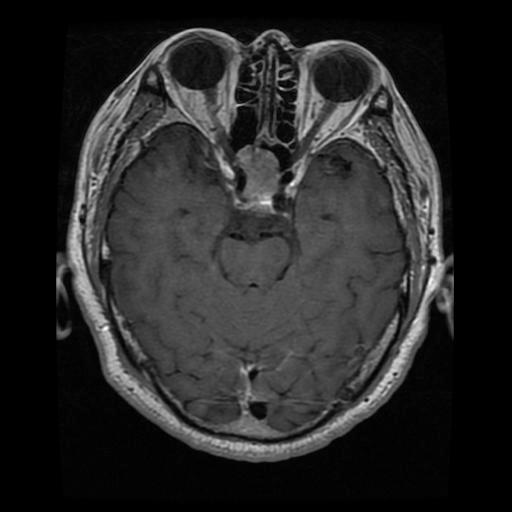Tumour-Pituitary: (221, 162, 309, 215)
